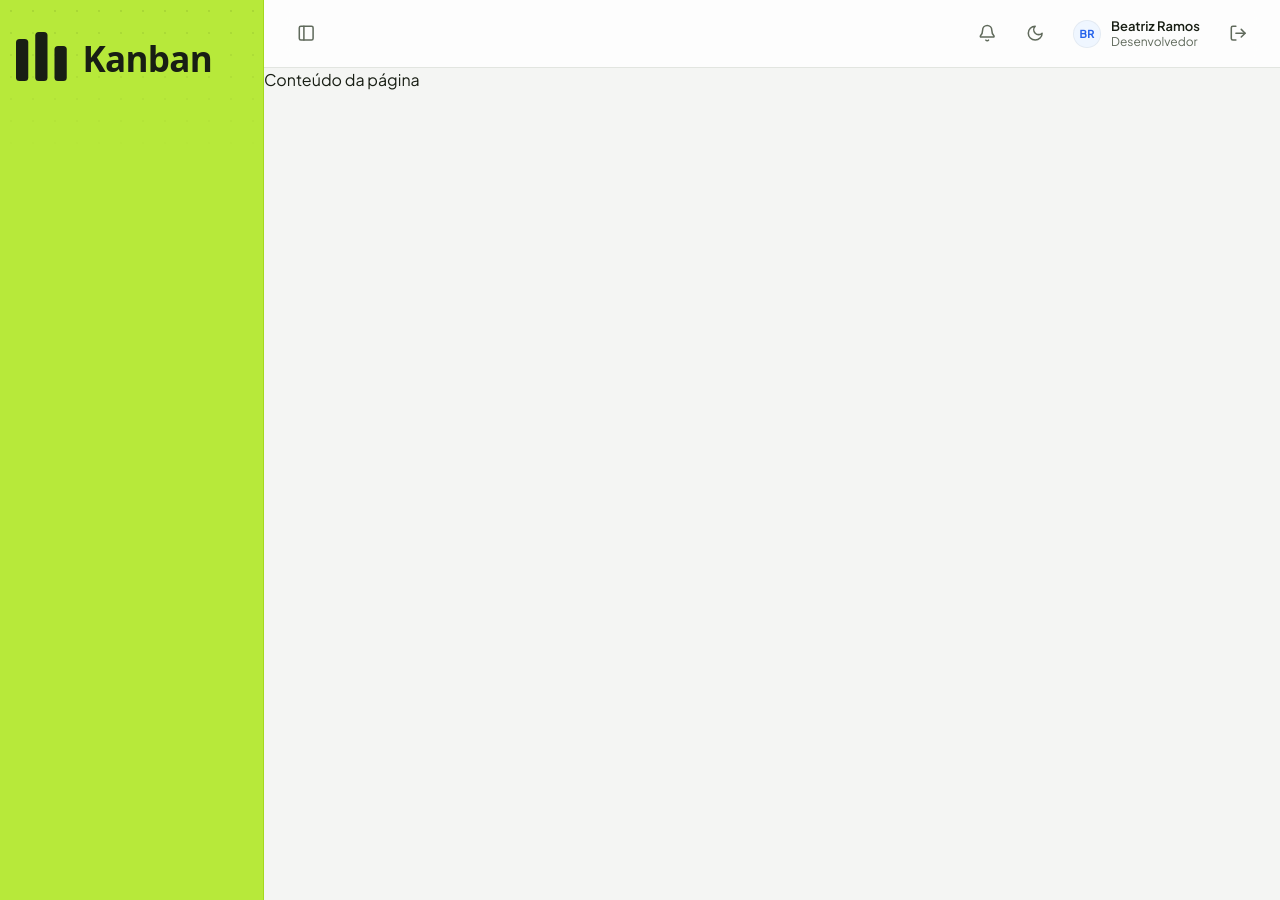
Test: AppLayout — Topbar › links the signed-in person's name to their own profile screen
Click the link "BR Beatriz Ramos Desenvolvedor" at point(1136, 34), box top-left (1065, 12), bottom-right (1208, 55)
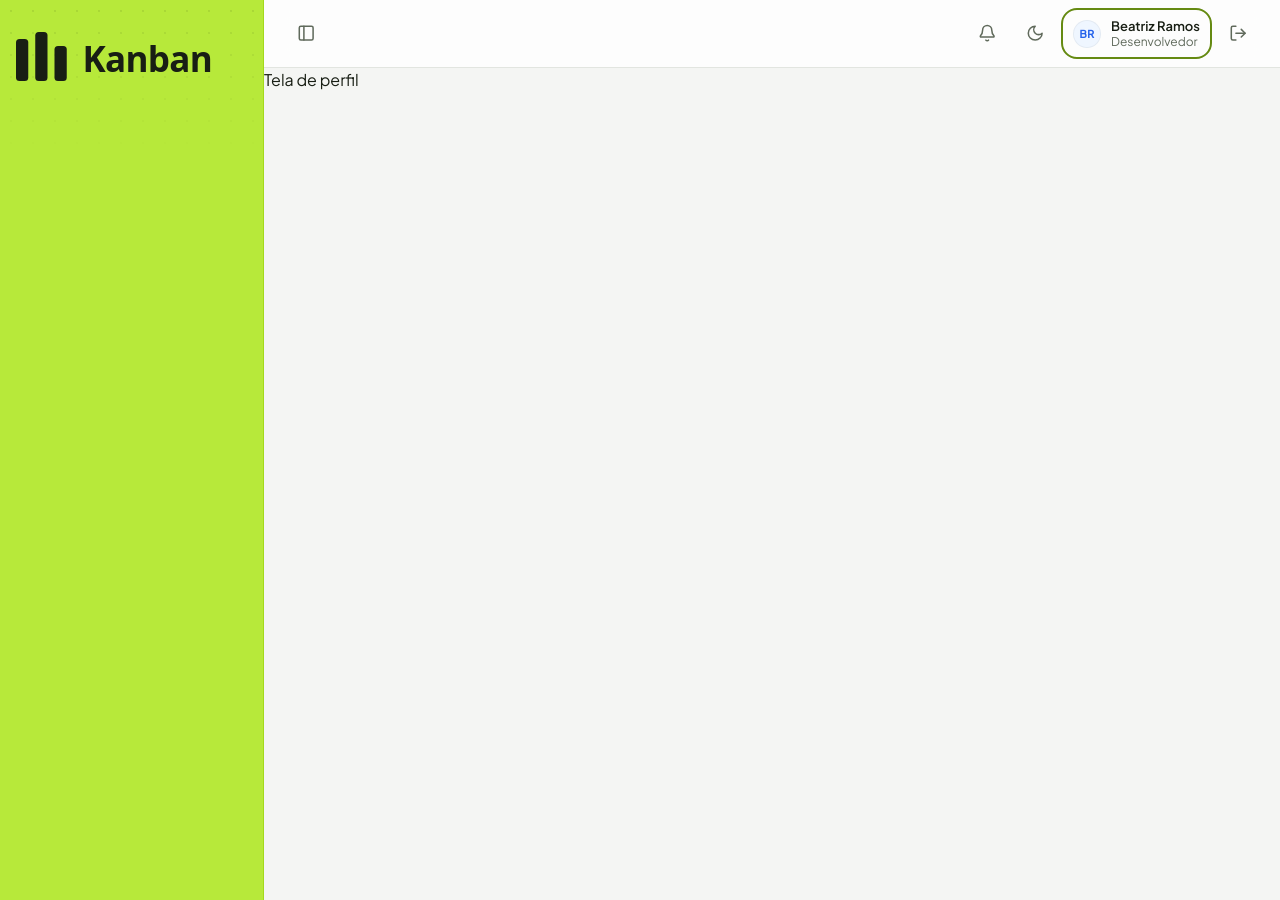
Expected: the text "Tela de perfil" is shown, top-left (264, 69), bottom-right (359, 90)
